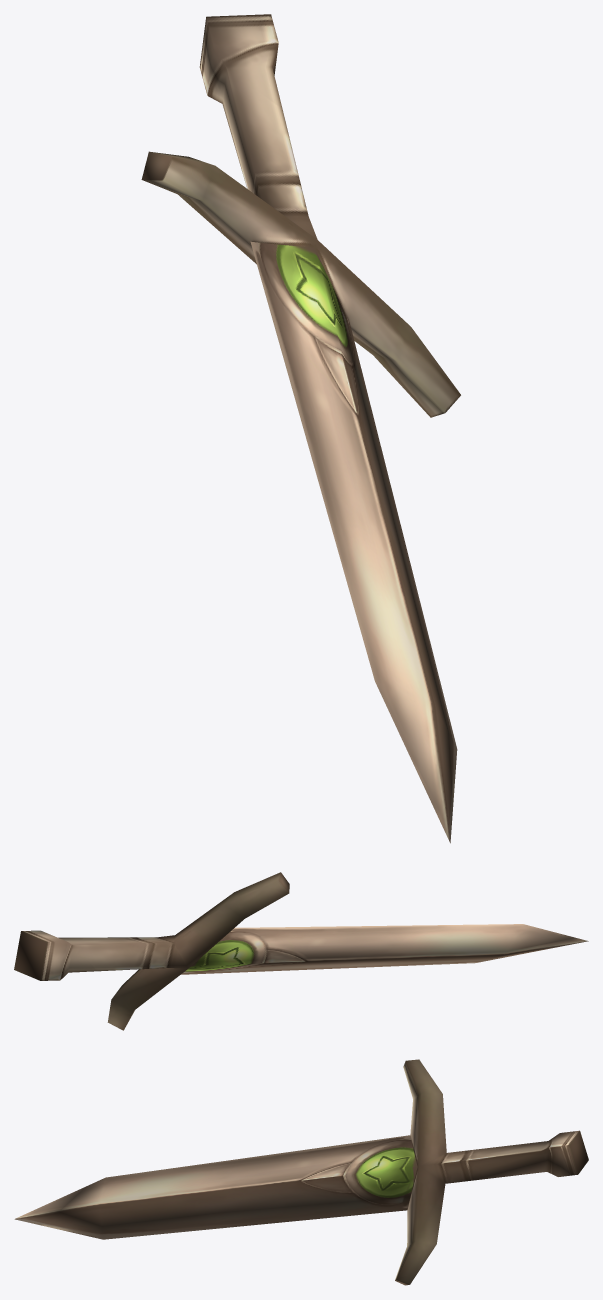
Rendered from Sword(46).obj.
The picture shows the model from 3 angles, top to bottom: view 1: azimuth 30°, elevation 25°; view 2: azimuth 150°, elevation 25°; view 3: azimuth 270°, elevation 25°; orthographic projection. The views are drawn at different scales.
Parts seen in each view (by area): view 1: sword1_LOD003; view 2: sword1_LOD003; view 3: sword1_LOD003.
Part boxes in pixels (left/top/right/bottom): sword1_LOD003: left=141, top=14, right=460, bottom=843; sword1_LOD003: left=14, top=872, right=588, bottom=1030; sword1_LOD003: left=14, top=1059, right=588, bottom=1285.
Size of the model in its own units: 0.5003 by 0.452 by 1.27.
